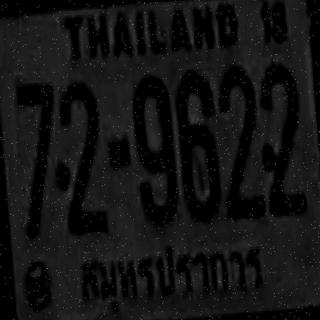N02: (52, 80, 105, 233), (256, 61, 304, 214), (215, 64, 262, 216)
N06: (173, 68, 220, 220)
N07: (14, 78, 62, 235), (14, 79, 58, 189)
N09: (129, 72, 178, 222)
P57: (72, 225, 266, 312)
